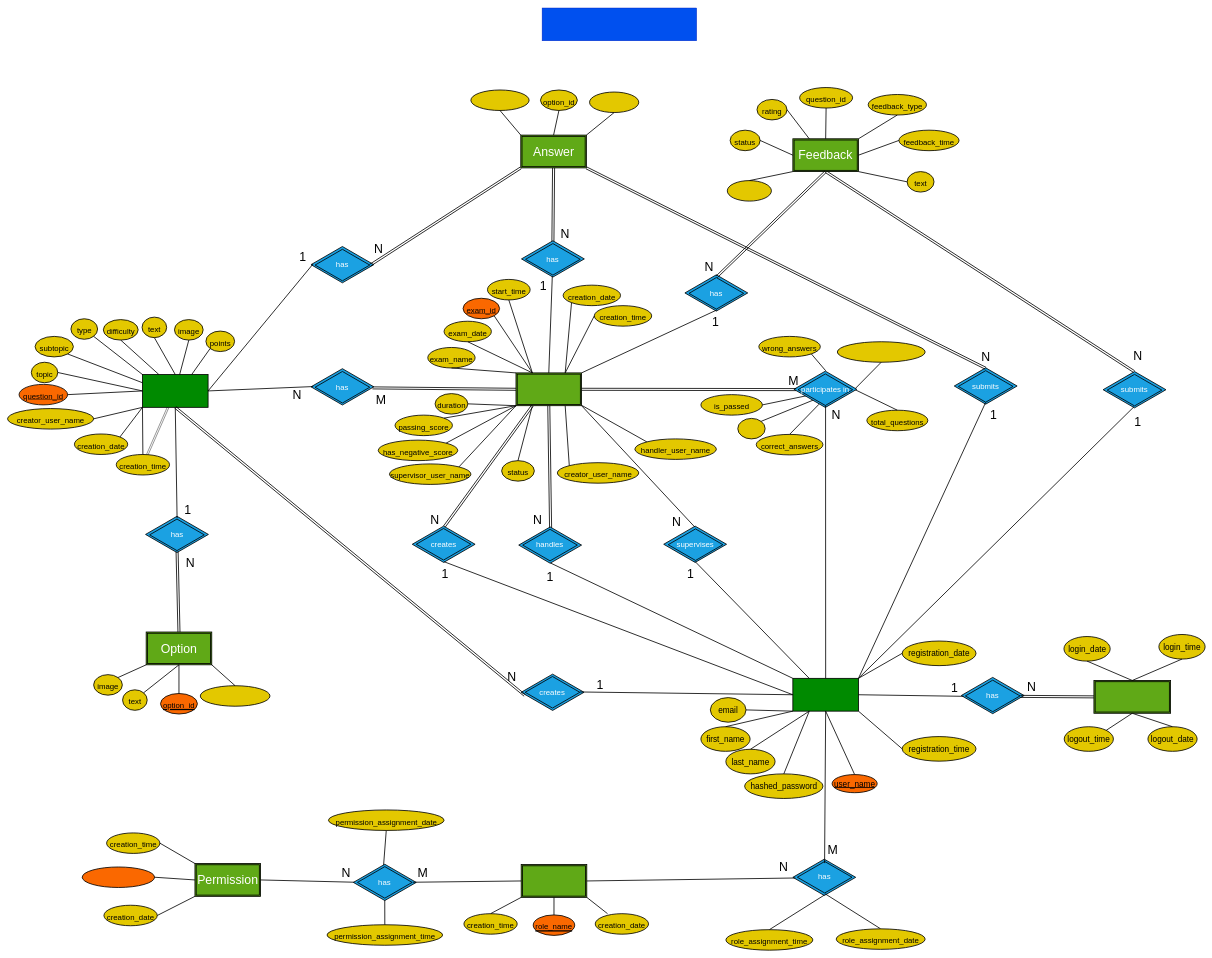
Some shapes in this 1212 by 958 pixel diagram are drawn without their labels. The box of each missing label's shape, as (x1, y1, x2, y2) in pixels:
answer_image: (470, 89, 529, 111)
answer_text: (589, 91, 639, 113)
ERD/CDM: (542, 8, 697, 41)
Exam: (515, 372, 582, 406)
is_ correct_ answer: (200, 685, 270, 706)
is_visible: (727, 180, 772, 201)
Login: (1093, 680, 1171, 713)
permission_name: (82, 866, 155, 888)
Question: (142, 374, 208, 408)
Role: (521, 864, 587, 898)
score: (737, 418, 765, 439)
unanswered_questions: (837, 341, 925, 362)
User: (792, 678, 859, 711)
